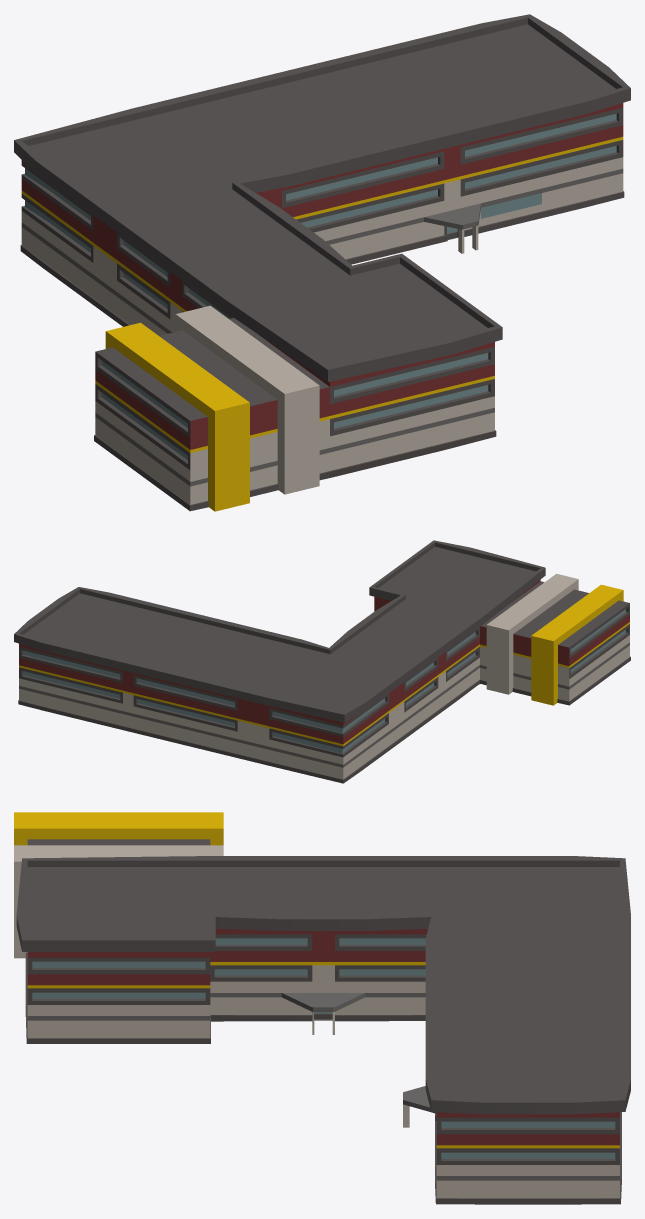
Rendered from Depot_Factory_S2.fbx.
The picture shows the model from 3 angles, top to bottom: view 1: azimuth 30°, elevation 25°; view 2: azimuth 150°, elevation 25°; view 3: azimuth 270°, elevation 25°; orthographic projection. The views are drawn at different scales.
Visible parts, largest first — view 1: Depot_Factory; view 2: Depot_Factory; view 3: Depot_Factory.
Part boxes in pixels (x1,y1,x2,y2): Depot_Factory: (14,14,630,511); Depot_Factory: (14,540,630,783); Depot_Factory: (14,812,630,1204).
Size of the model in its own units: 11928 by 1942 by 10103.
